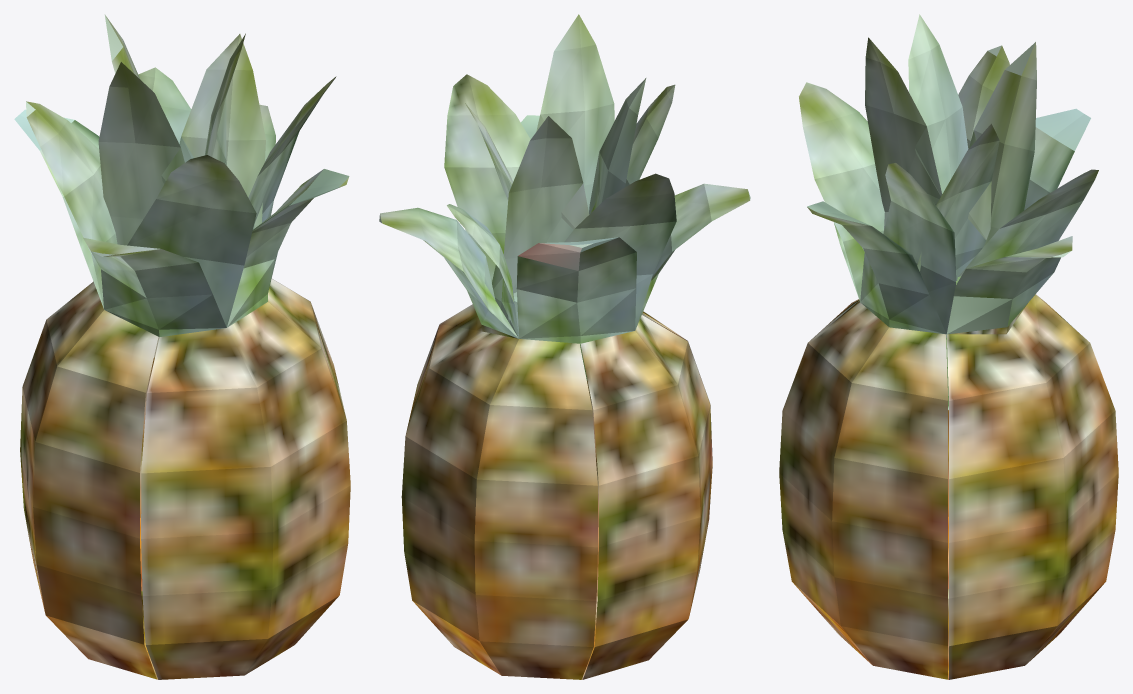
Rendered from PINEAPPLE HAT.fbx.
3 views of the same model, side by side, from view 1: azimuth 30°, elevation 25°; view 2: azimuth 150°, elevation 25°; view 3: azimuth 270°, elevation 25° (orthographic). The views are drawn at different scales.
Visible parts, largest first — view 1: PINEAPPLE_HAT; view 2: PINEAPPLE_HAT; view 3: PINEAPPLE_HAT.
Boxes of the visible parts, bbox=[...] form: PINEAPPLE_HAT: bbox=[14, 14, 350, 679]; PINEAPPLE_HAT: bbox=[379, 14, 750, 679]; PINEAPPLE_HAT: bbox=[779, 14, 1118, 679].
Bounding box in the file's own units: 13.97 × 28.08 × 13.97.
